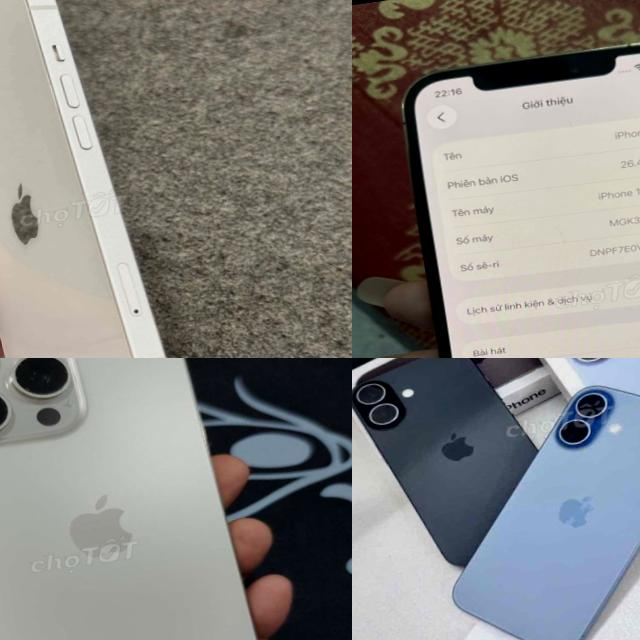gen_12_13: (397, 29, 640, 358)
gen_14: (0, 0, 187, 358)
gen_15: (0, 358, 287, 640)
gen_17: (453, 386, 640, 640)
